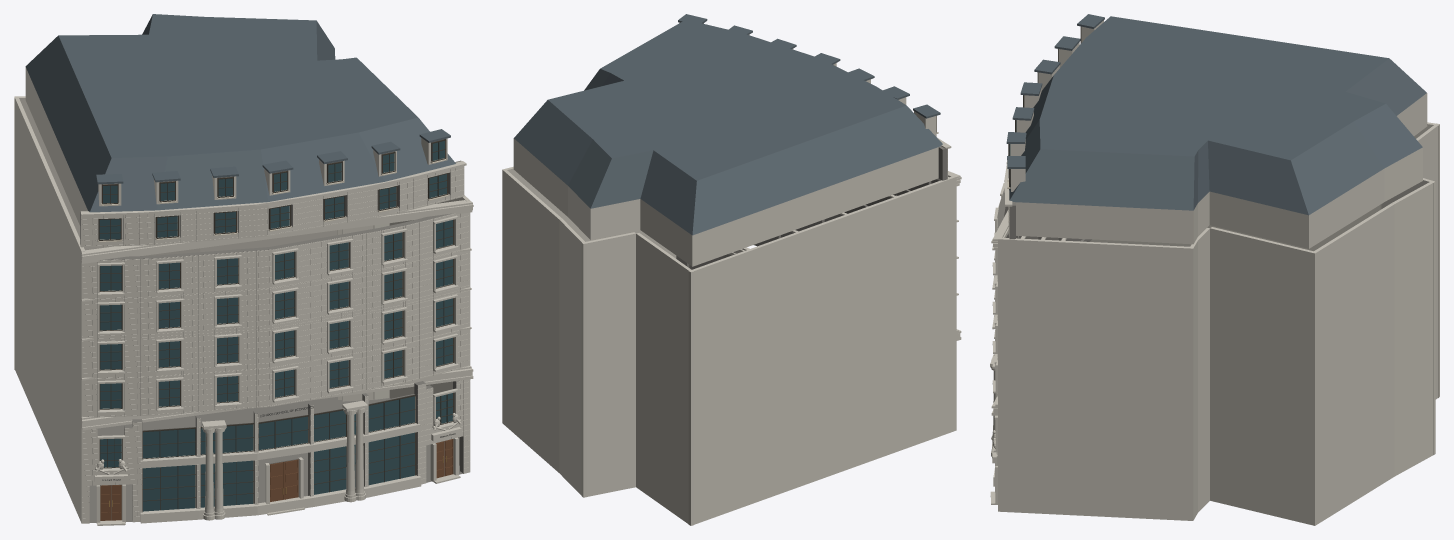
Rendered from clm-exterior-7573b354f1c0.glb.
3 renders of one model, left to right at view 1: azimuth 30°, elevation 25°; view 2: azimuth 150°, elevation 25°; view 3: azimuth 270°, elevation 25°, orthographic. The views are drawn at different scales.
Visible parts, largest first — view 1: CLM.001; view 2: CLM.001; view 3: CLM.001.
Boxes of the visible parts, bbox=[...] form: CLM.001: bbox=[14, 14, 473, 525]; CLM.001: bbox=[502, 14, 961, 525]; CLM.001: bbox=[990, 14, 1439, 525].
Bounding box in the file's own units: 33.04 × 29.19 × 34.19.
